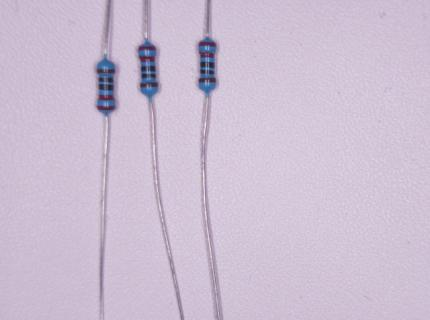Black band: (141, 65, 156, 72), (142, 73, 157, 79), (99, 84, 114, 90), (201, 62, 214, 68), (200, 70, 215, 75), (99, 77, 114, 82)
Brown band: (199, 78, 217, 83), (97, 69, 115, 73), (141, 83, 158, 87)
Red band: (198, 51, 215, 58), (139, 56, 155, 62), (138, 46, 157, 51), (198, 42, 217, 47), (98, 95, 114, 100), (97, 106, 116, 110)
